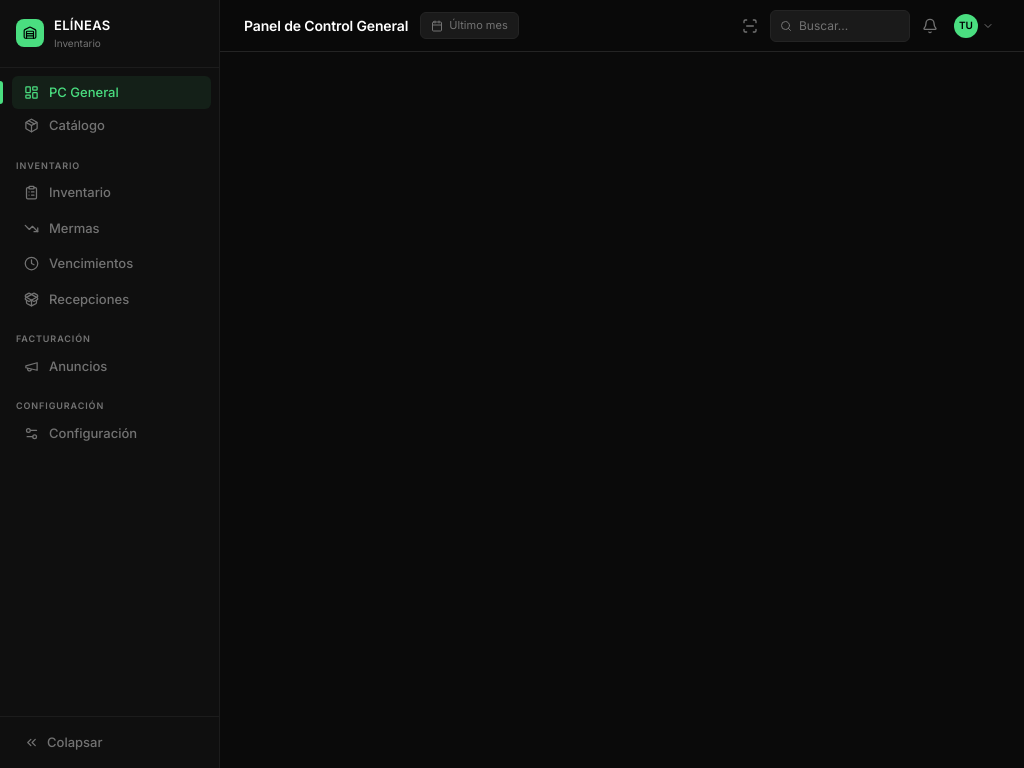
Test: AppLayout header — interacción › el menú de usuario muestra las opciones al abrirse
What coordinates should you click on to do the following:
click the button with test id "btn-user-menu"
I would click on:
 (974, 26)
Its box is [948,10,1000,42].
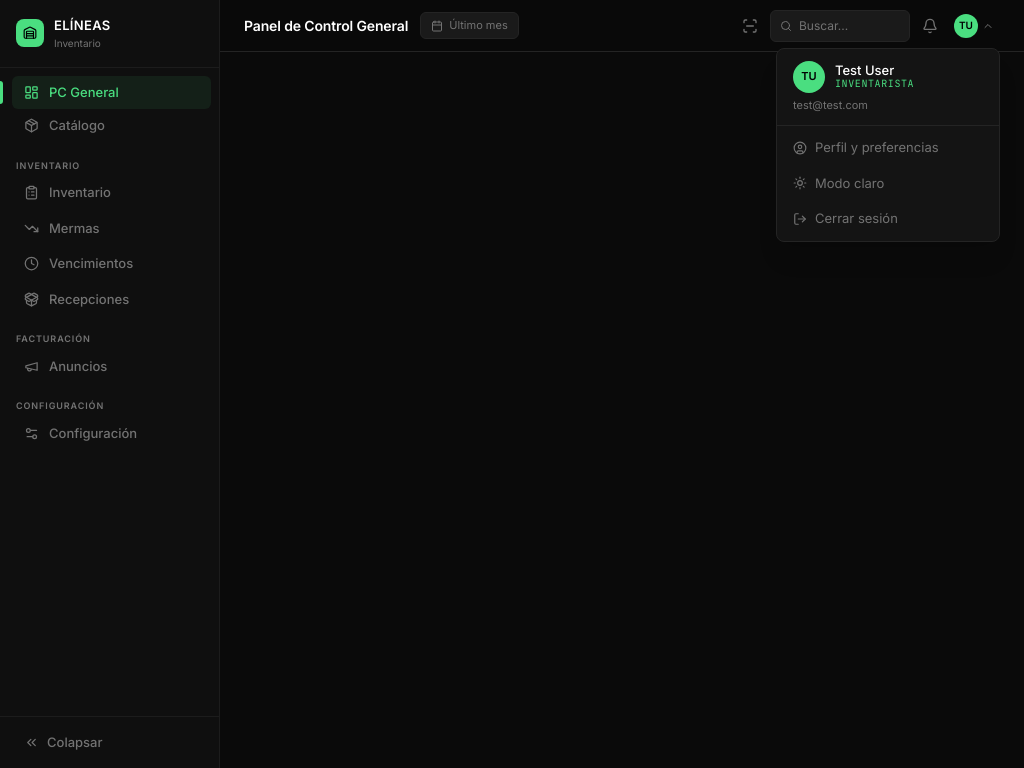
Check: the button "Perfil y preferencias" is shown, box [781,130,995,166]
Check: the button "Cerrar sesión" is shown, box [781,201,995,236]
